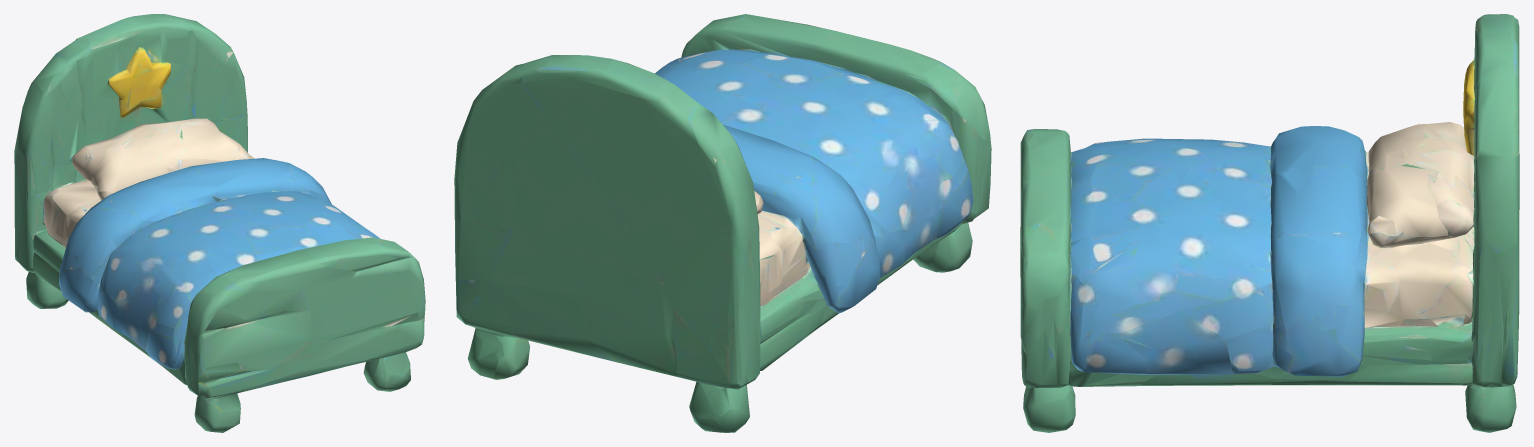
The model's file is bed.glb.
The picture shows the model from 3 angles, left to right: view 1: azimuth 30°, elevation 25°; view 2: azimuth 150°, elevation 25°; view 3: azimuth 270°, elevation 25°; orthographic projection. The views are drawn at different scales.
Parts seen in each view (by area): view 1: bed; view 2: bed; view 3: bed.
Part boxes in pixels (x1,y1,x2,y2): bed: (14, 14, 425, 432); bed: (454, 14, 991, 432); bed: (1020, 14, 1519, 432).
Bounding box in the file's own units: 1.1 × 1.05 × 1.4.
Materials: 1 (1 with a texture image).
